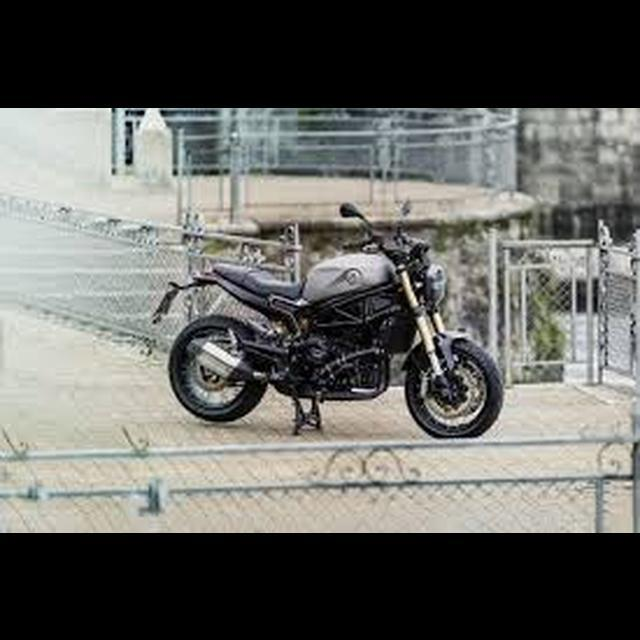motorcycle: (147, 197, 510, 444)
